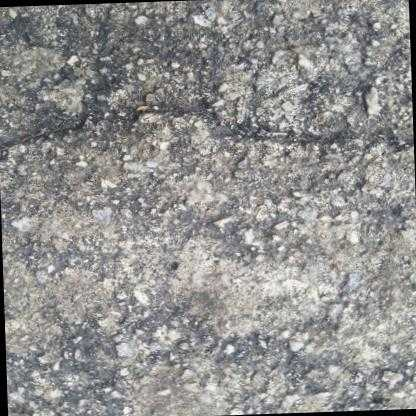crack: (8, 107, 414, 152)
